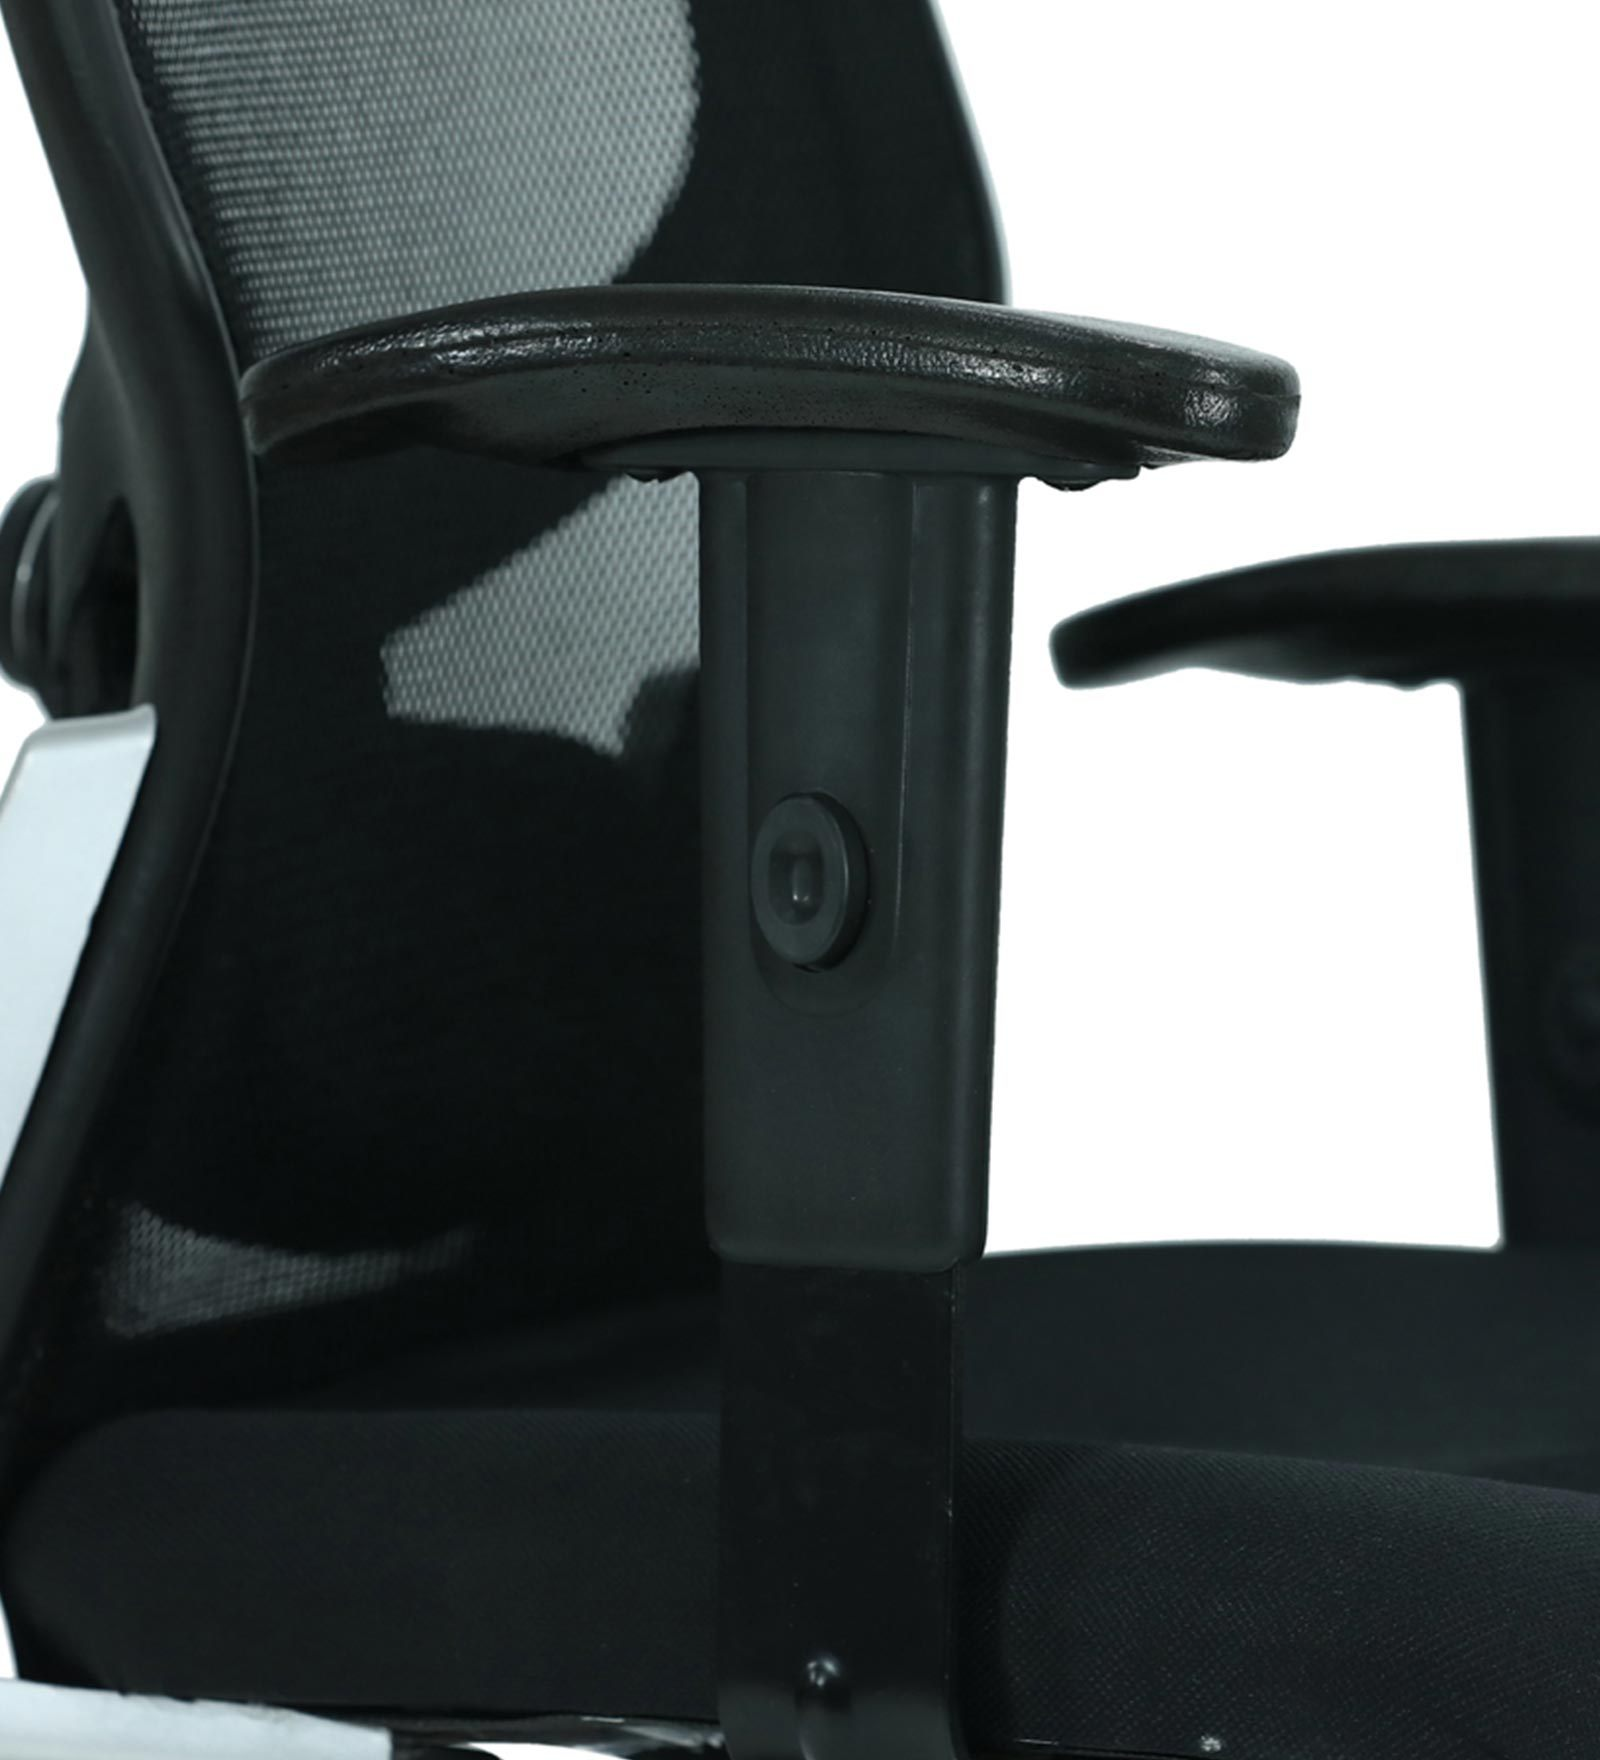Swivel High Back Ergonomic Chair with headrest In Black Colour By Furniease: (54, 25, 1575, 1760)
